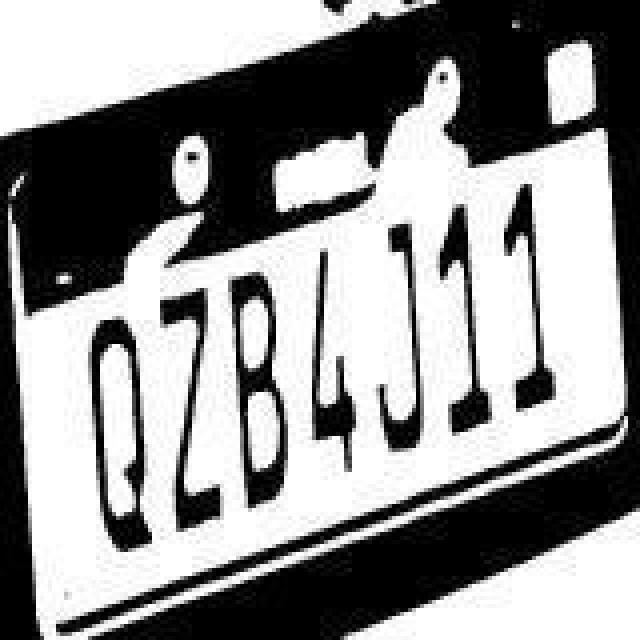1: (432, 194, 496, 454), (500, 172, 564, 420)
4: (298, 236, 366, 484)
B: (226, 256, 294, 512)
J: (368, 214, 432, 474)
Q: (84, 298, 156, 550)
Z: (158, 274, 226, 534)
